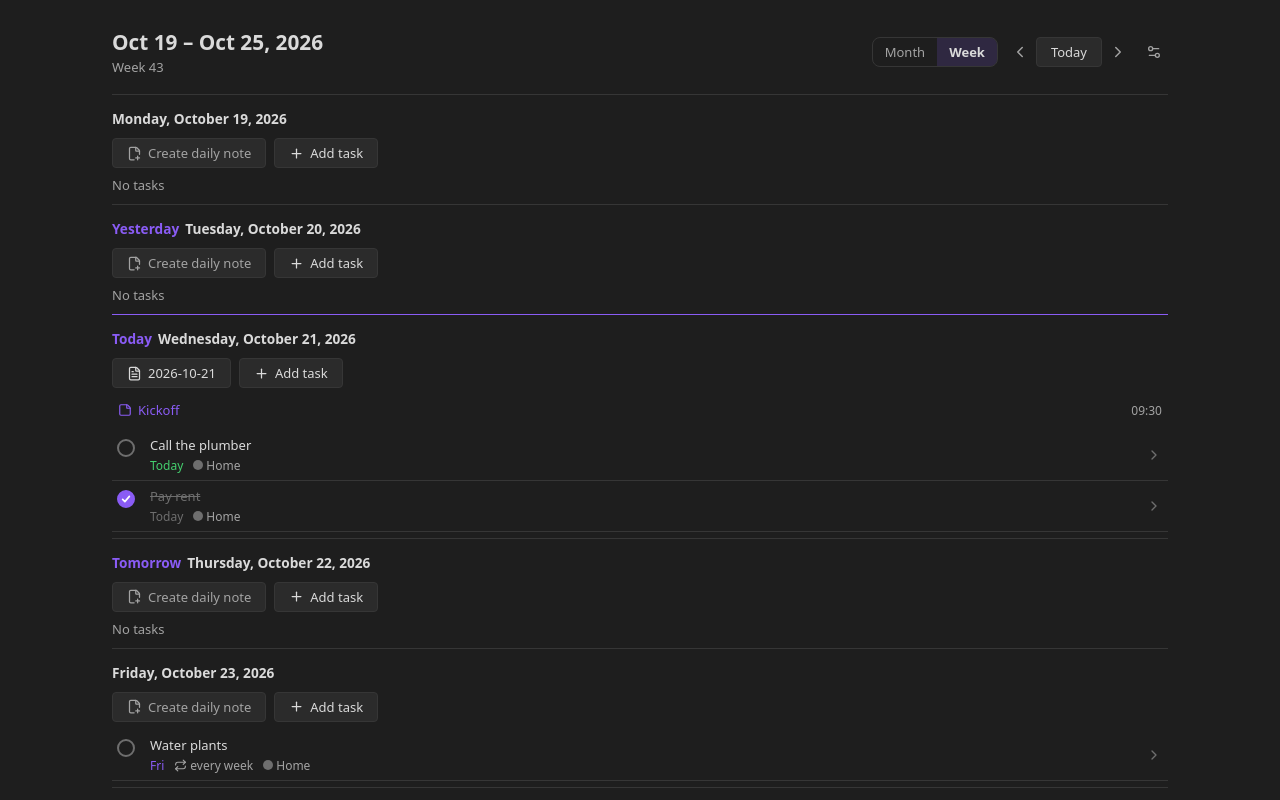
Test: Calendar page (ROADMAP item 14) › shows a week day by day
This screenshot has width=1280, height=800.
Expected: the heading "Oct 19 – Oct 25, 2026" is shown, [112, 28, 323, 56]
Expected: the text "Week 43" is shown, [112, 58, 164, 76]
Click the button named "Next week".
click(1118, 52)  # box [1104, 38, 1132, 66]
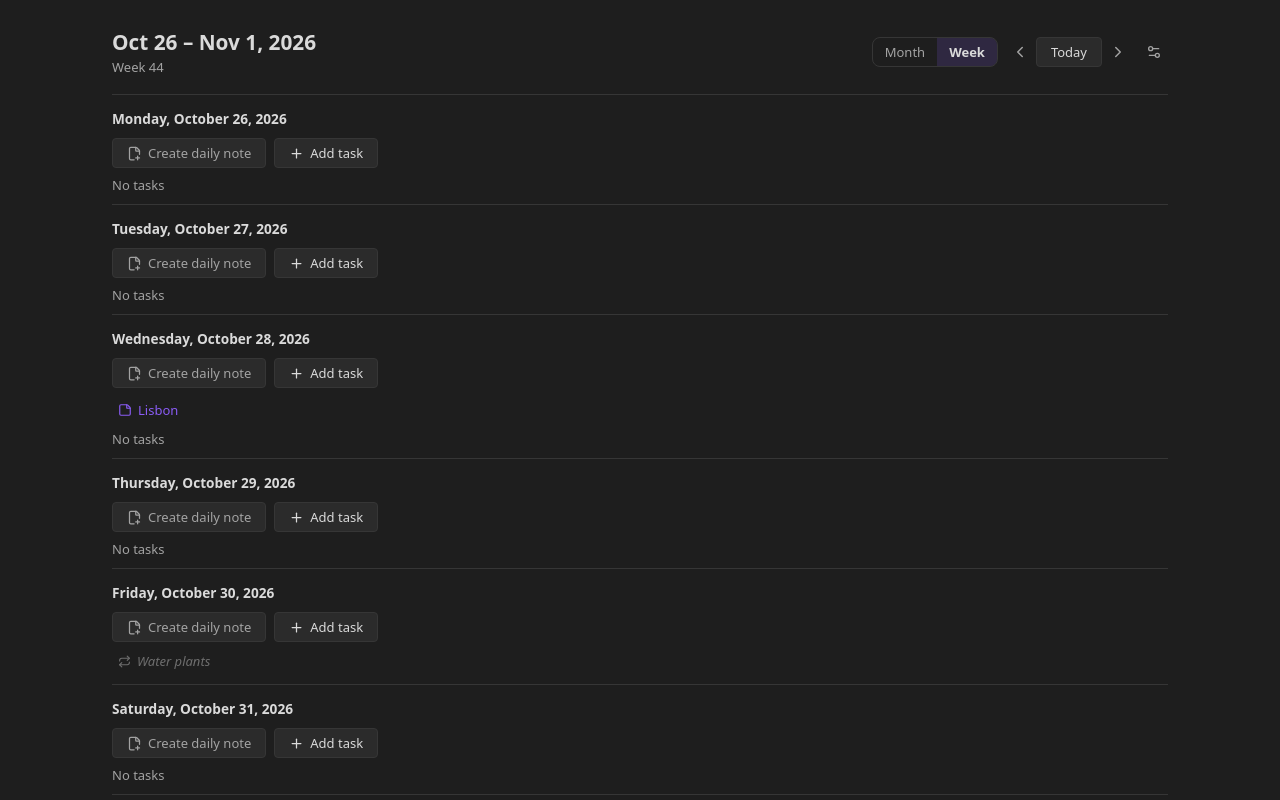
Expected: the text "Water plants" is shown, [137, 652, 210, 670]
Expected: the heading "Oct 26 – Nov 1, 2026" is shown, [112, 28, 316, 56]
Expected: the checkbox is gone
Click the button "Month".
click(905, 52)  # box [873, 38, 937, 66]
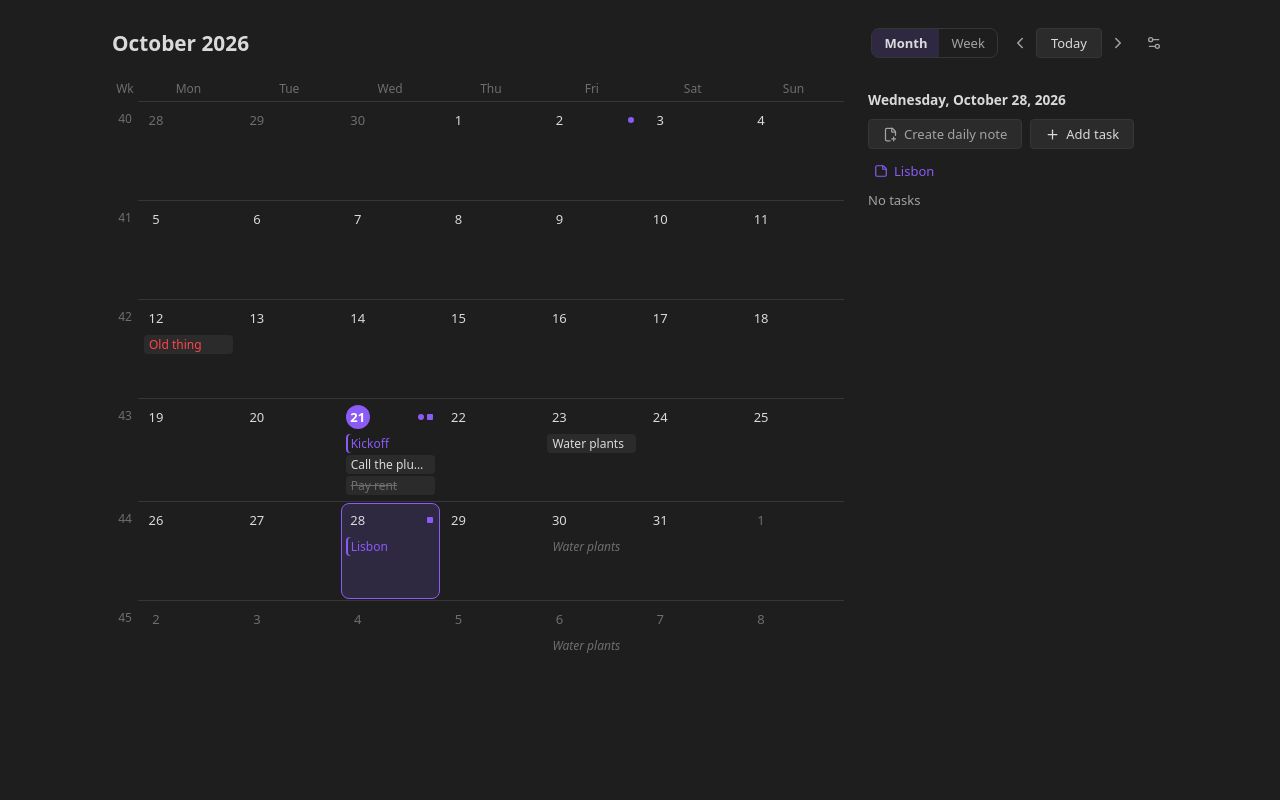
Expected: the heading "October 2026" is shown, [112, 29, 249, 57]
